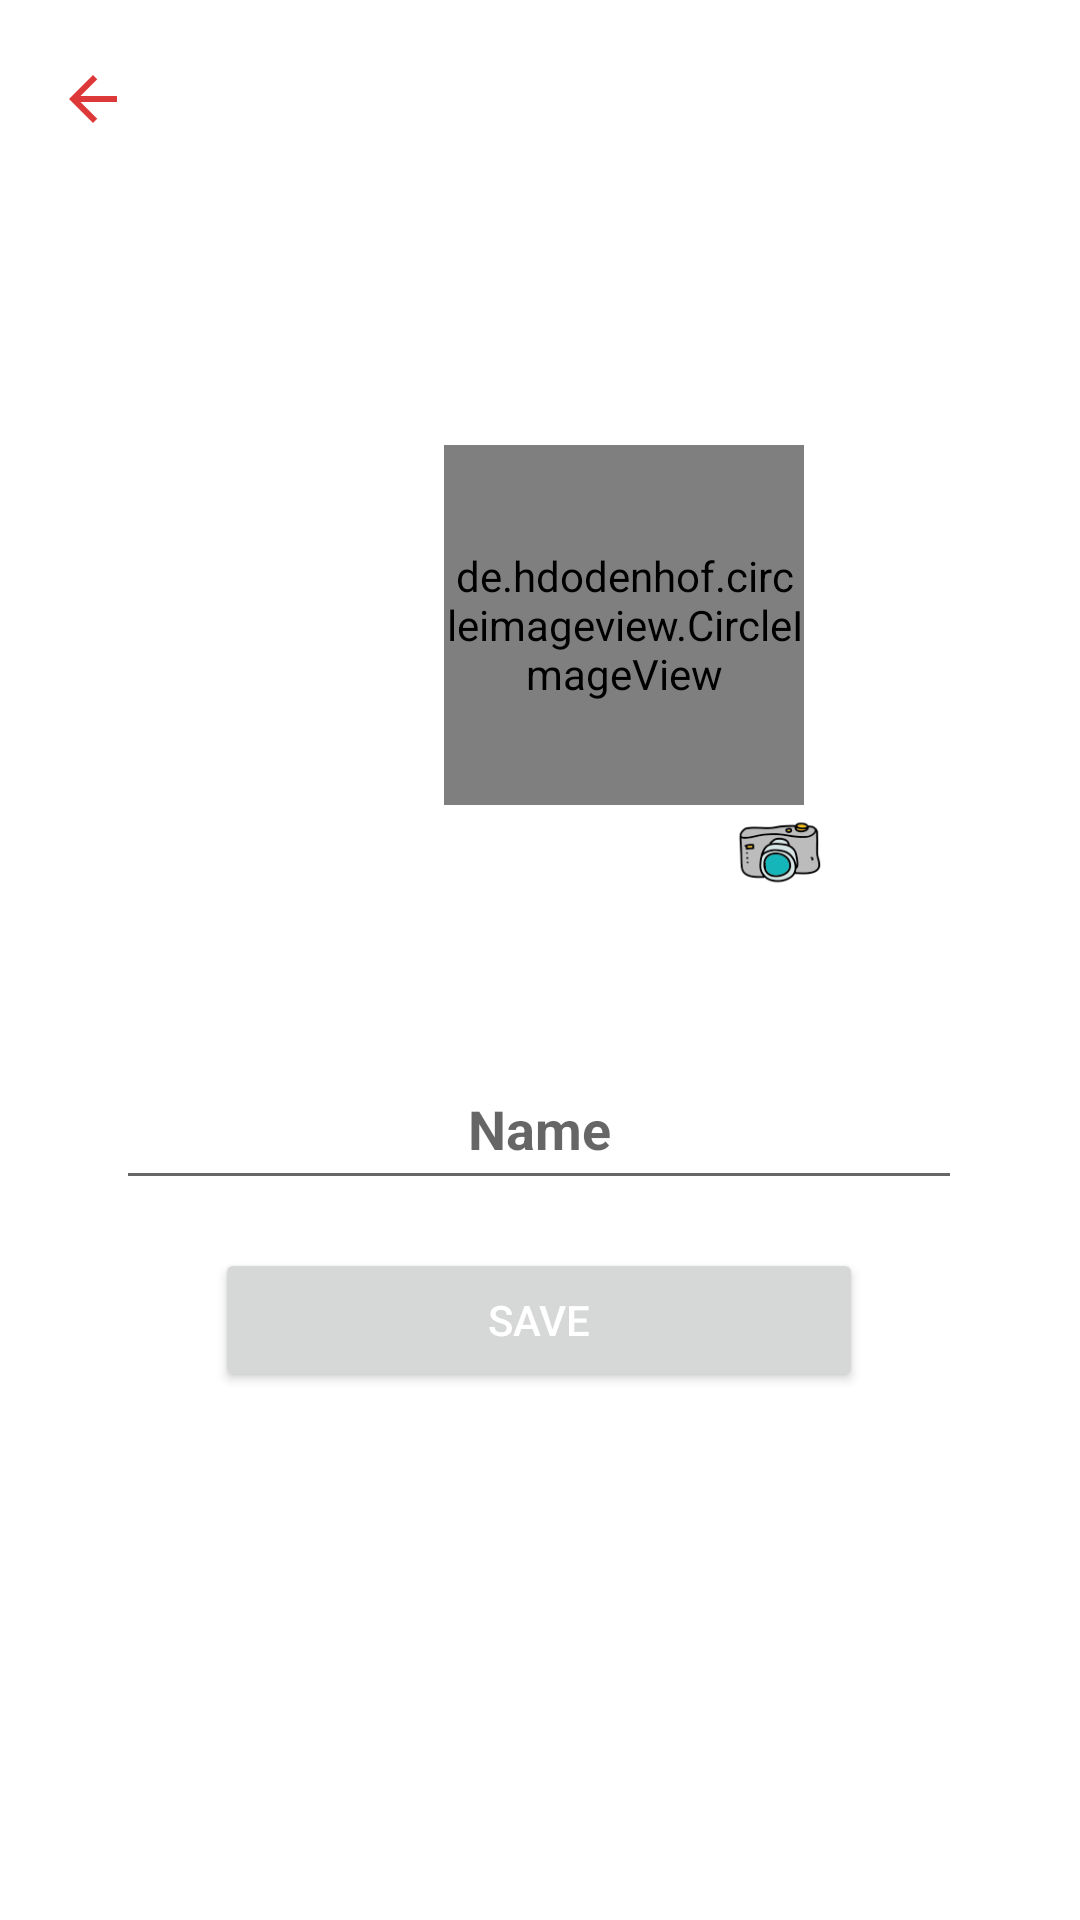

Named icons in this screenshot (1080x1920) and their centers, (x,y):
back: (93,99)
